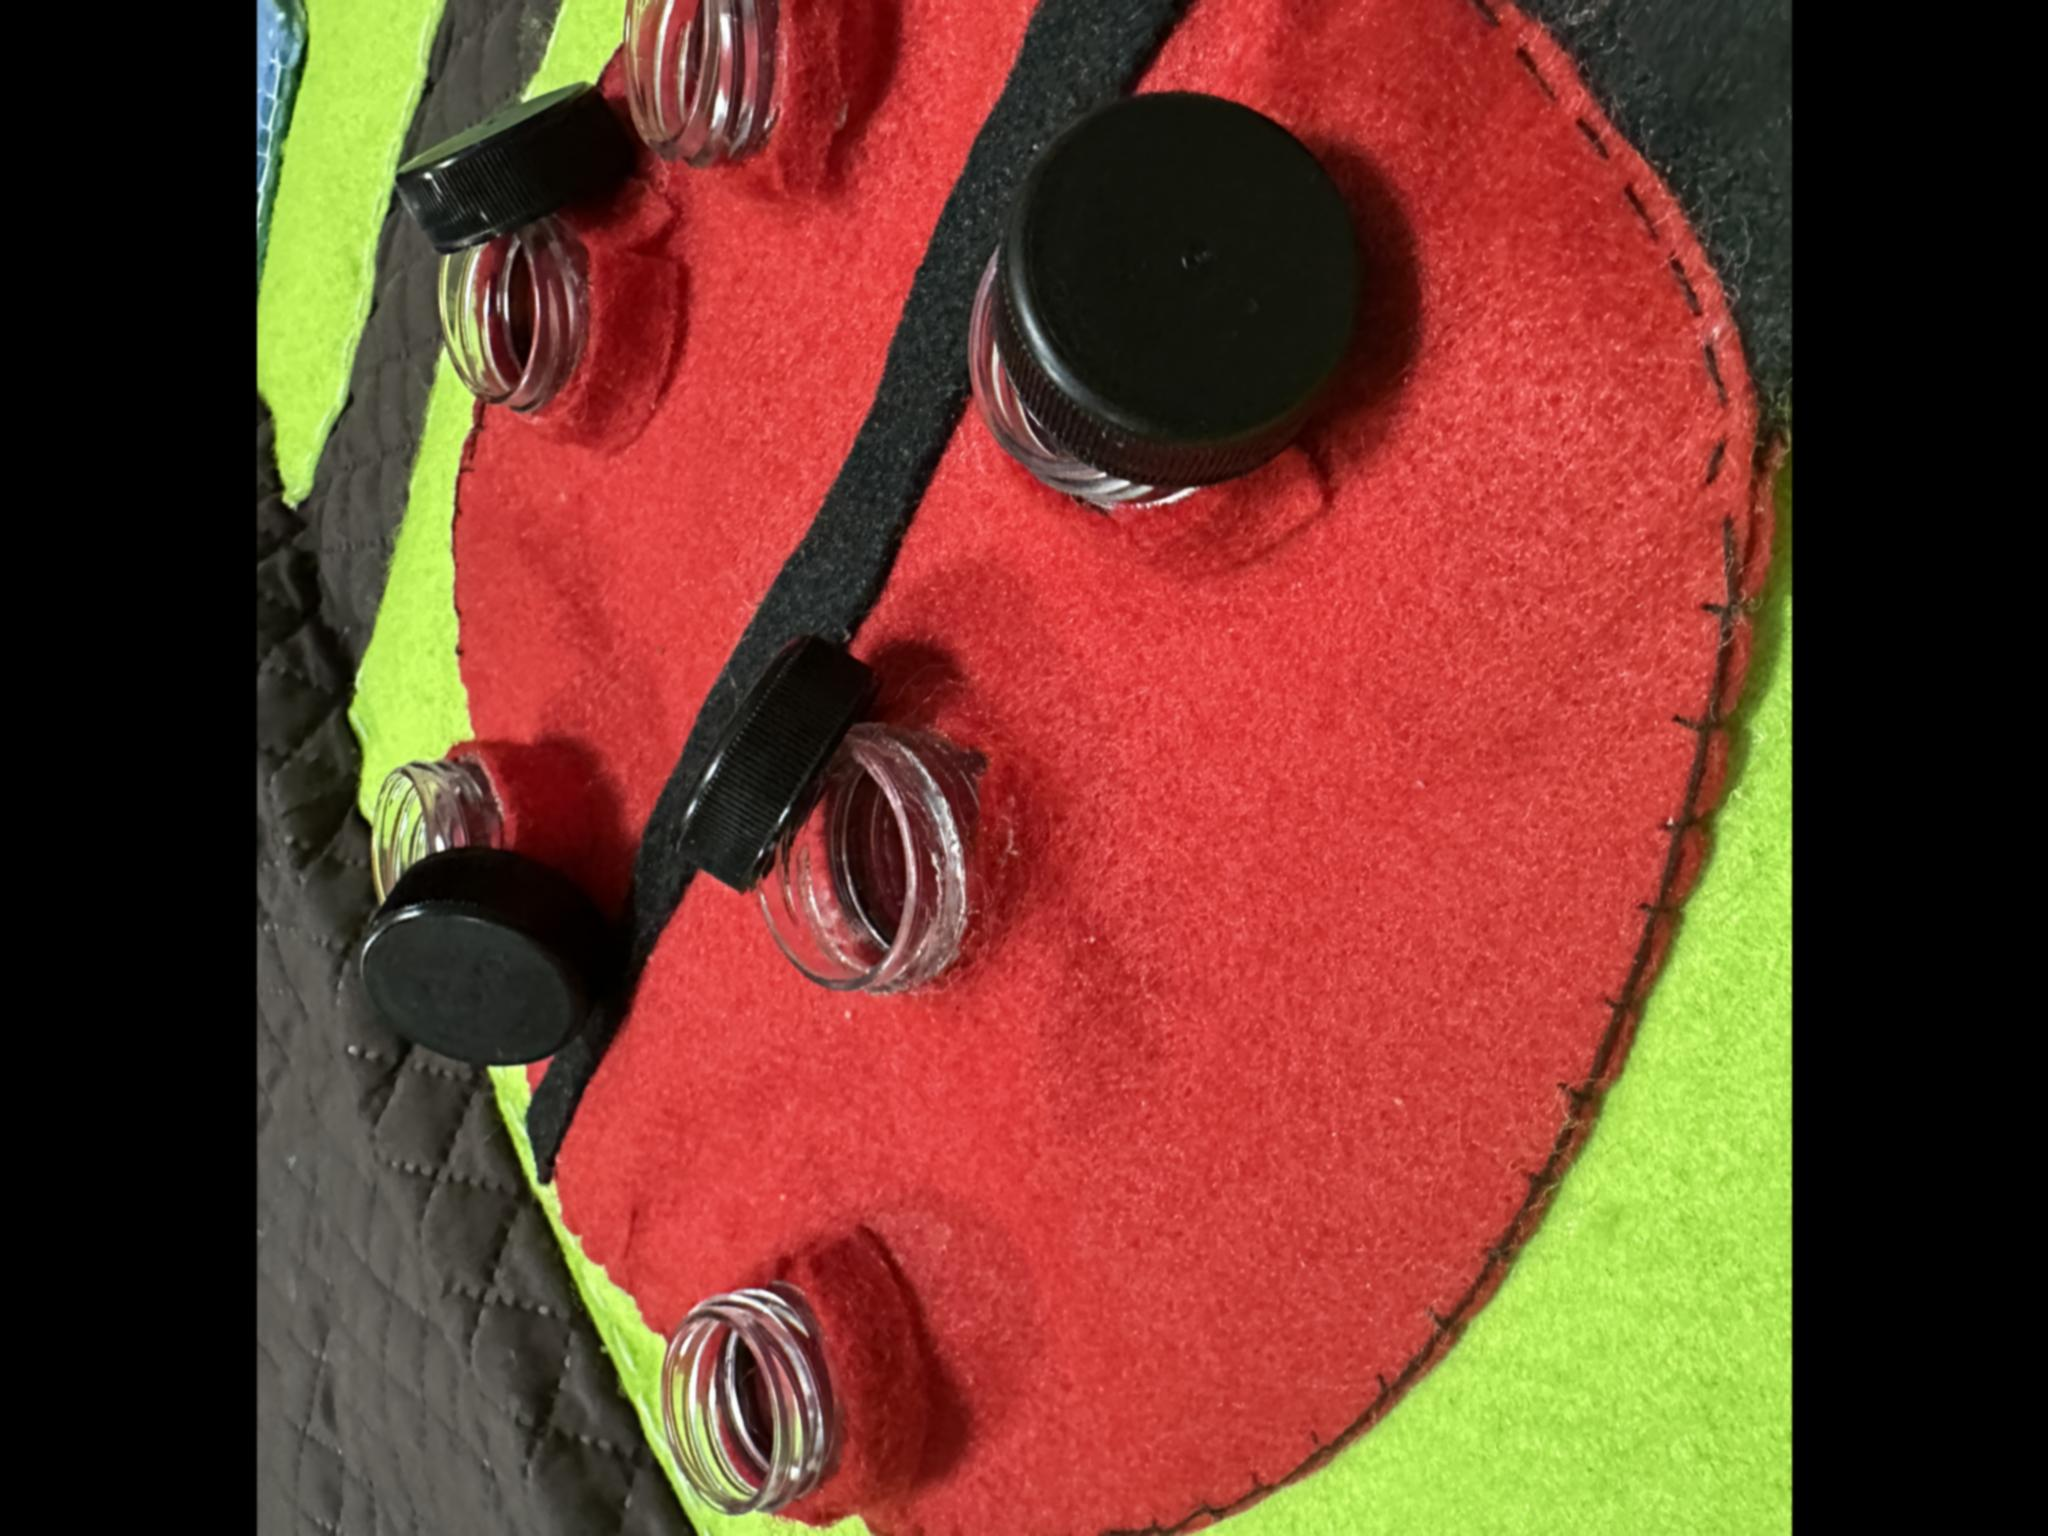cap_ng: (937, 82, 1400, 544), (658, 603, 997, 1029), (369, 66, 681, 450), (335, 708, 624, 1073)
